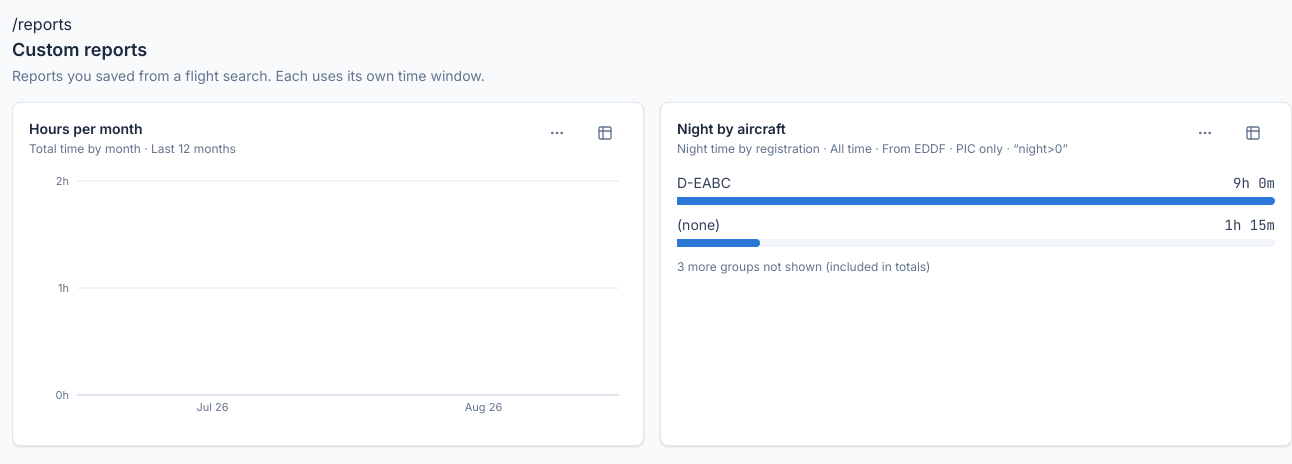
Test case: CustomReportsSection › exports and opens the flights behind a report
The width and height of the screenshot is (1292, 464).
Click the button named "Actions for Hours per month": (557, 133) left=535, top=111, right=579, bottom=155
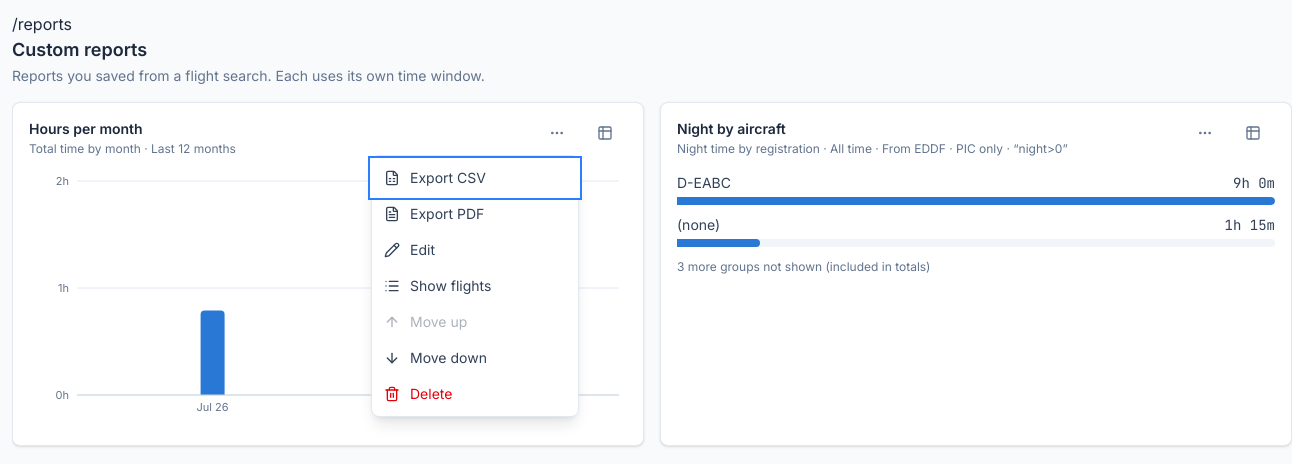
Click the menu item "Export PDF": (475, 214) left=372, top=196, right=578, bottom=232
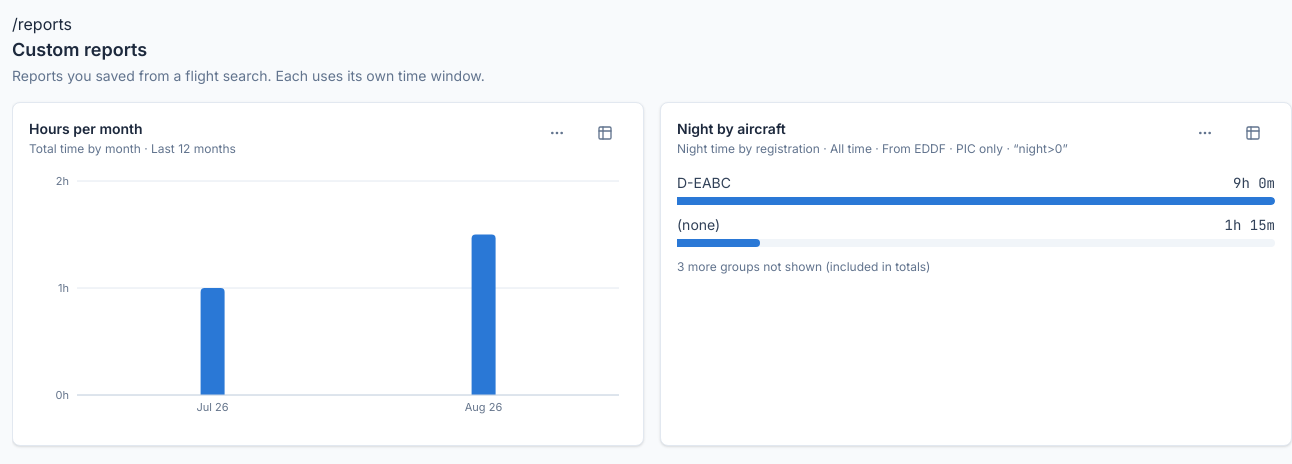
Click the button named "Actions for Night by aircraft": (1205, 133) left=1183, top=111, right=1227, bottom=155
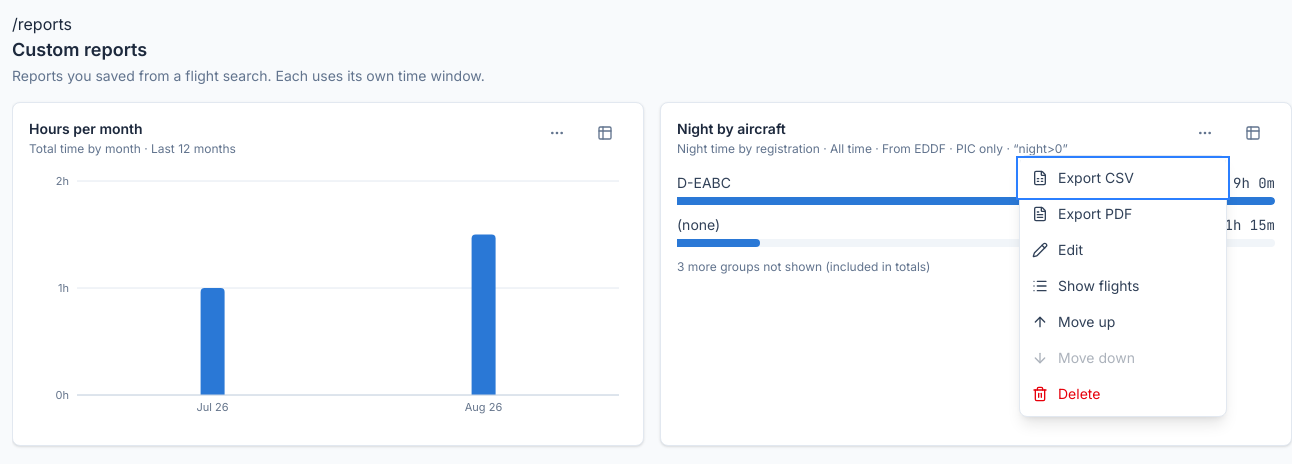
Click the menu item "Show flights": (1123, 286) left=1020, top=268, right=1226, bottom=304
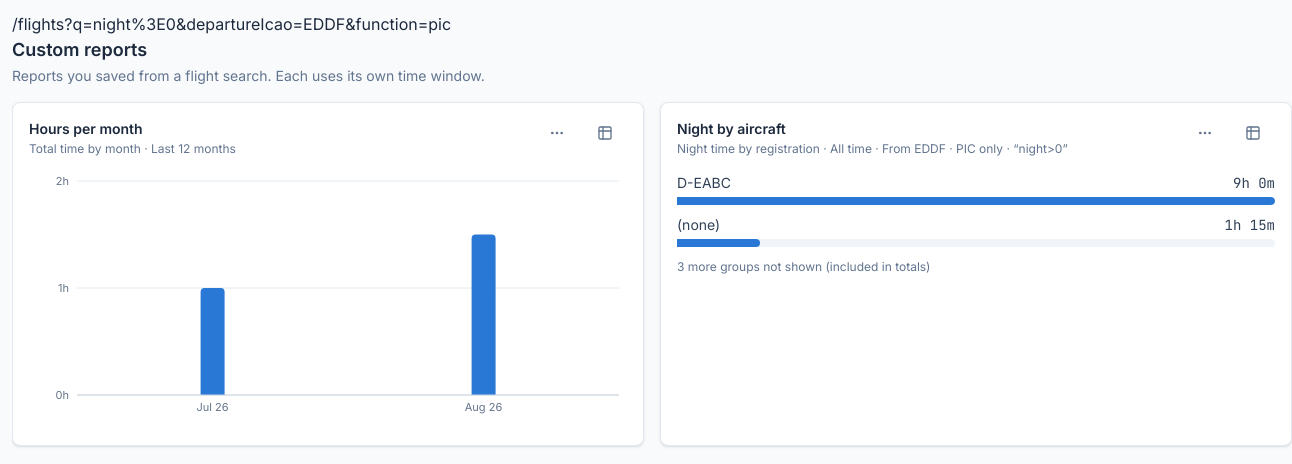
Expected: the text with test id "where" reads "/flights?q=night%3E0&departureIcao=EDDF&function=pic", left=12, top=14, right=451, bottom=34
